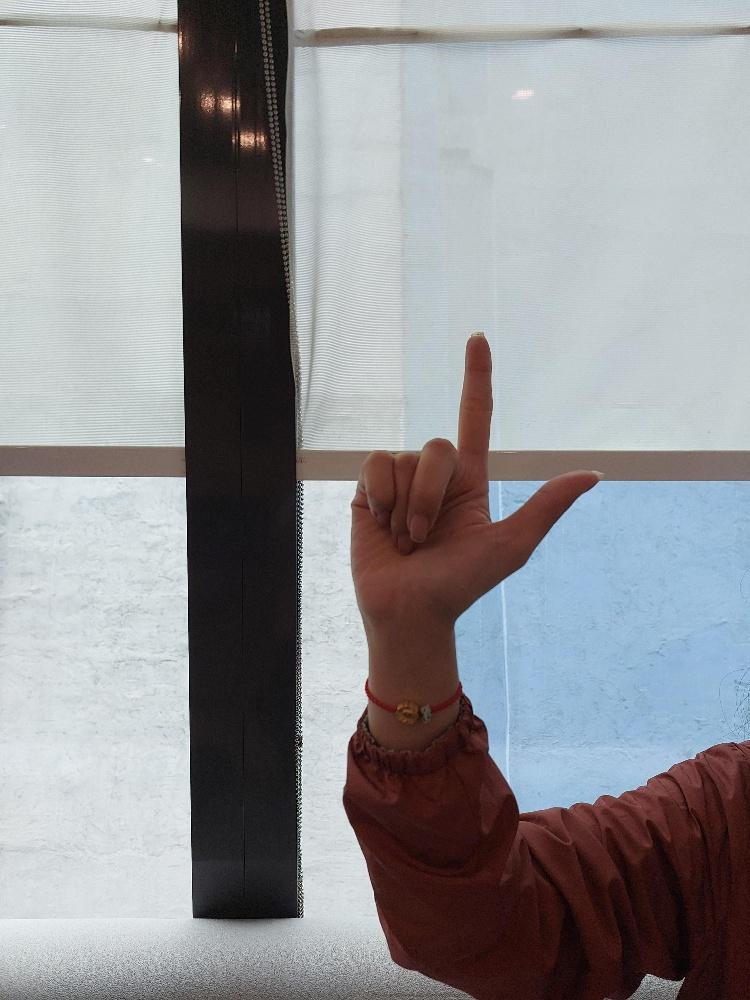l: (346, 331, 604, 629)
